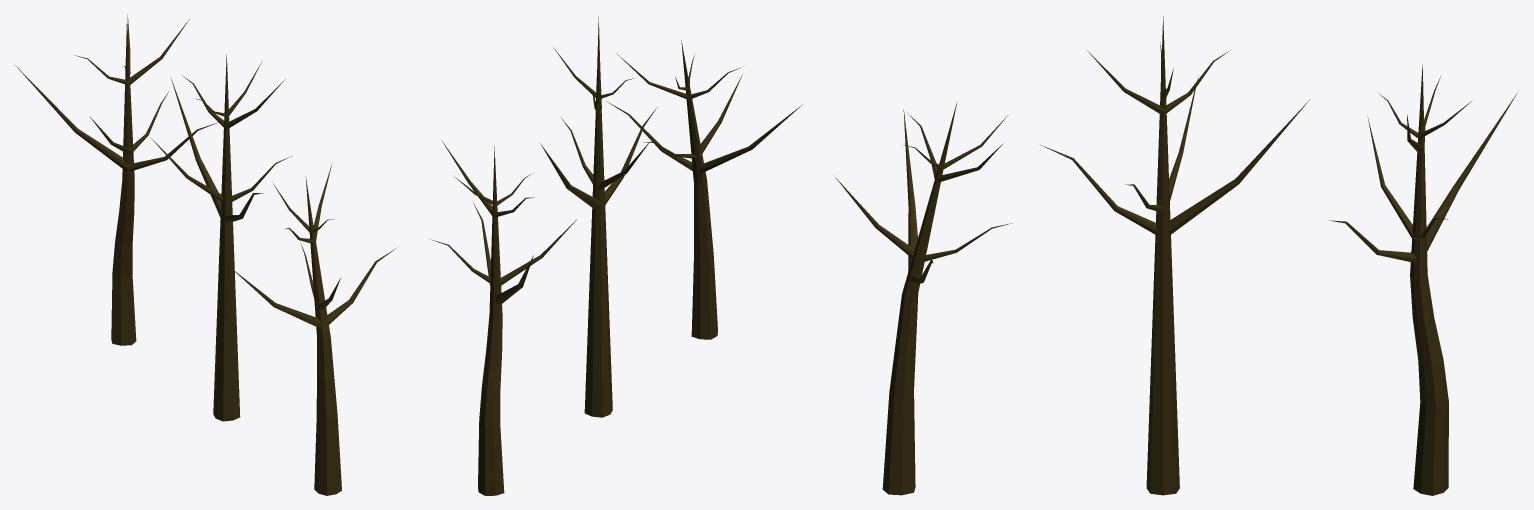
File: Dead trees.fbx
3 views of the same model, side by side, from view 1: azimuth 30°, elevation 25°; view 2: azimuth 150°, elevation 25°; view 3: azimuth 270°, elevation 25° (orthographic). The views are drawn at different scales.
Visible parts, largest first — view 1: Cube, Cube.002, Cube.001; view 2: Cube, Cube.002, Cube.001; view 3: Cube, Cube.002, Cube.001.
Boxes of the visible parts, bbox=[...] form: Cube: bbox=[151, 54, 291, 421]; Cube.002: bbox=[15, 14, 218, 345]; Cube.001: bbox=[231, 163, 396, 495]; Cube: bbox=[540, 16, 657, 417]; Cube.002: bbox=[431, 140, 576, 495]; Cube.001: bbox=[606, 40, 802, 339]; Cube: bbox=[1041, 16, 1309, 495]; Cube.002: bbox=[1329, 65, 1517, 495]; Cube.001: bbox=[835, 102, 1012, 495].
Bounding box in the file's own units: 1057 × 2038 × 2674.
